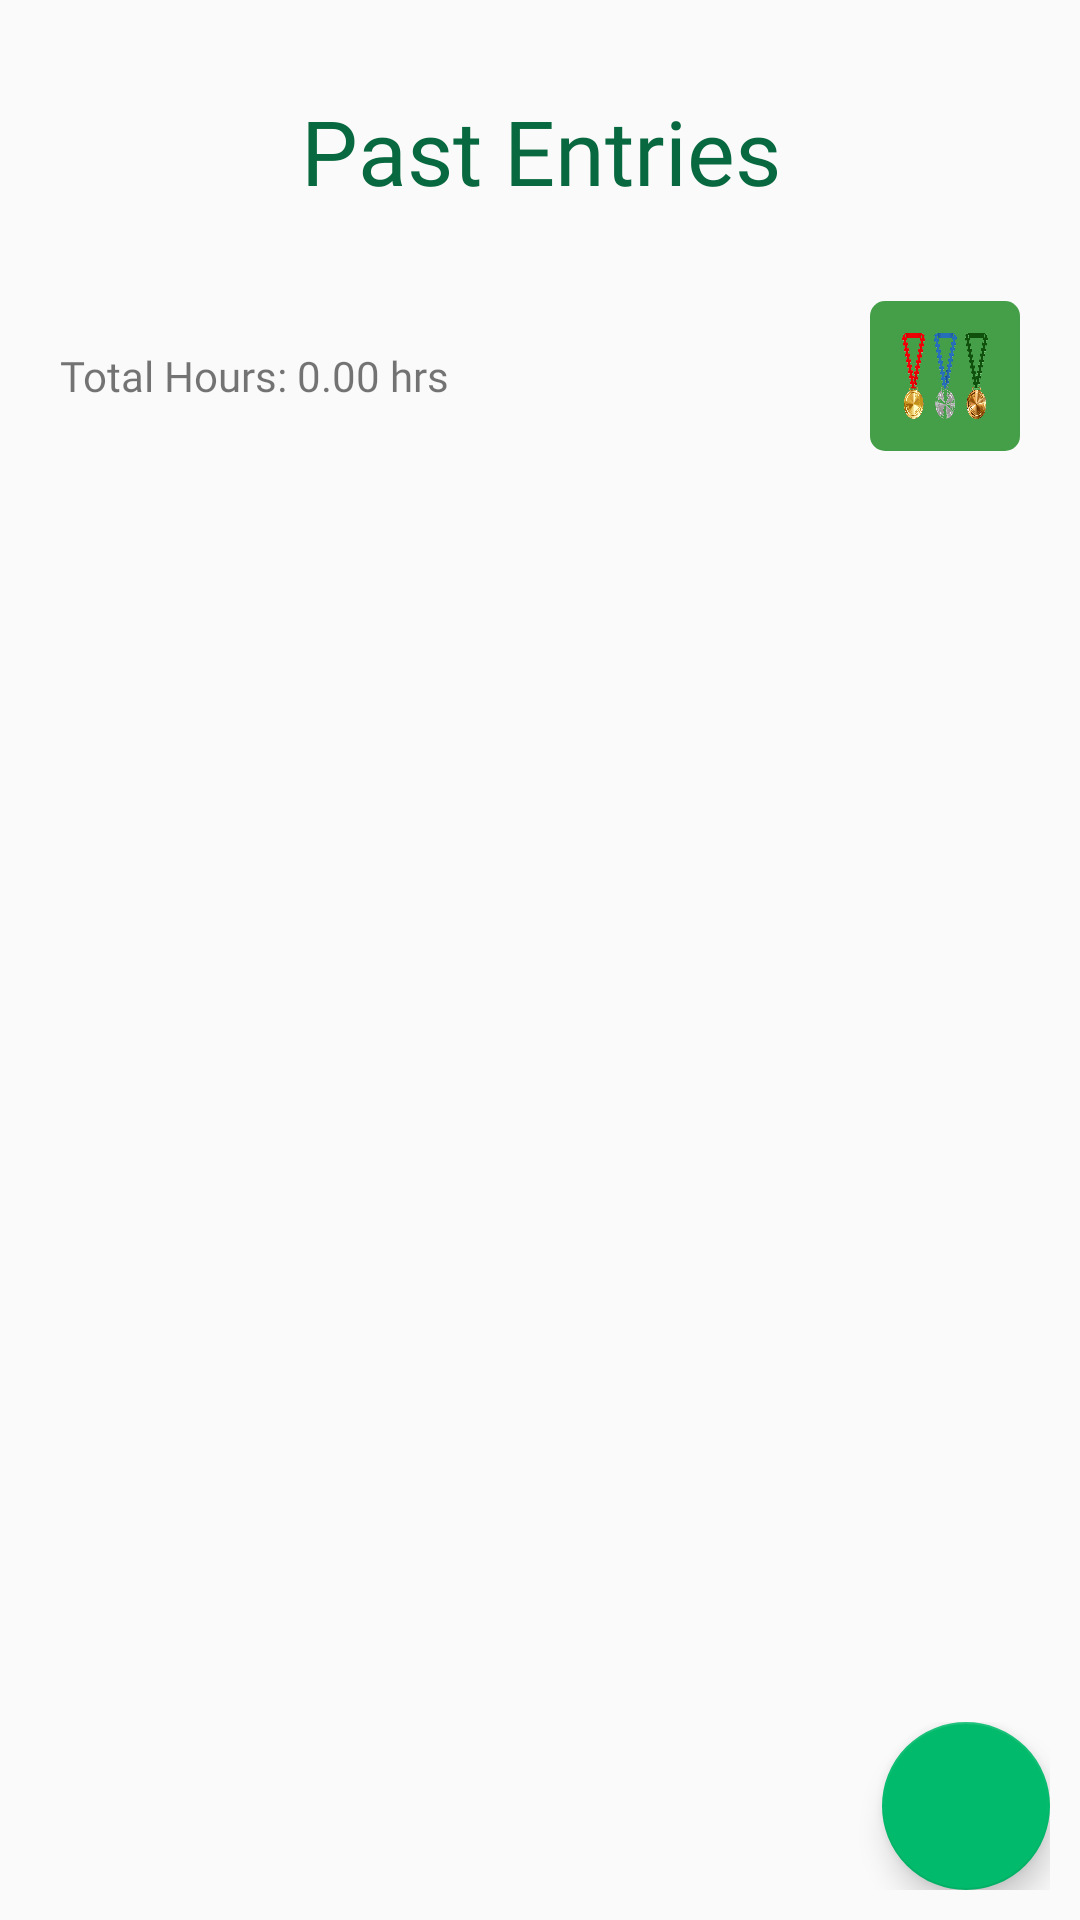

Icons on this 1080*1920 Android screen, each with the point to tap as (x,y):
medalsselector: (945,376)
